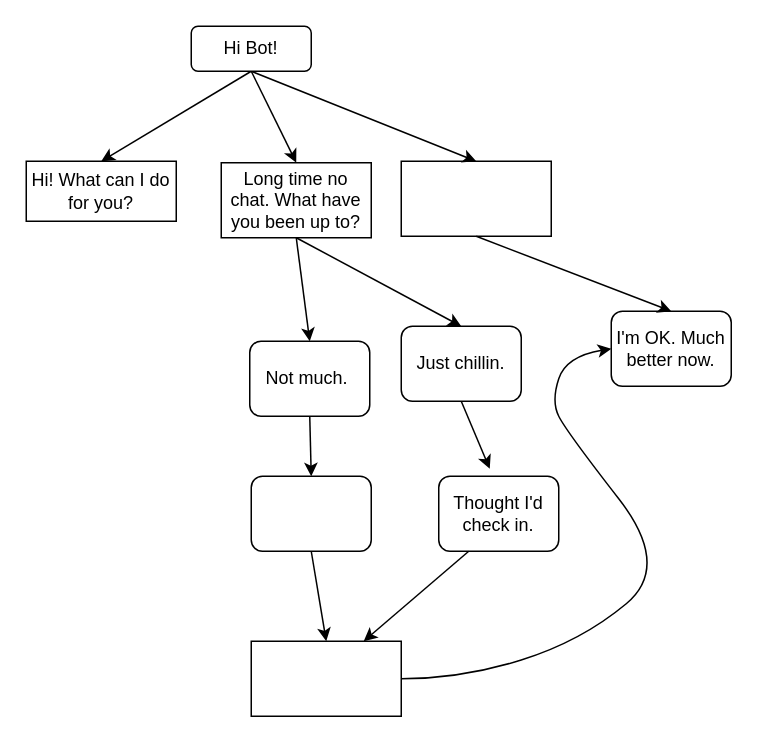
Some shapes in this 758 by 743 pixel diagram are drawn without their labels. Each missing label, with the centre of its shape:
"How are you doing?" belongs at (x=475, y=198).
"Nothing you'd understand" belongs at (x=310, y=513).
"What's on your mind?" belongs at (x=325, y=678).
